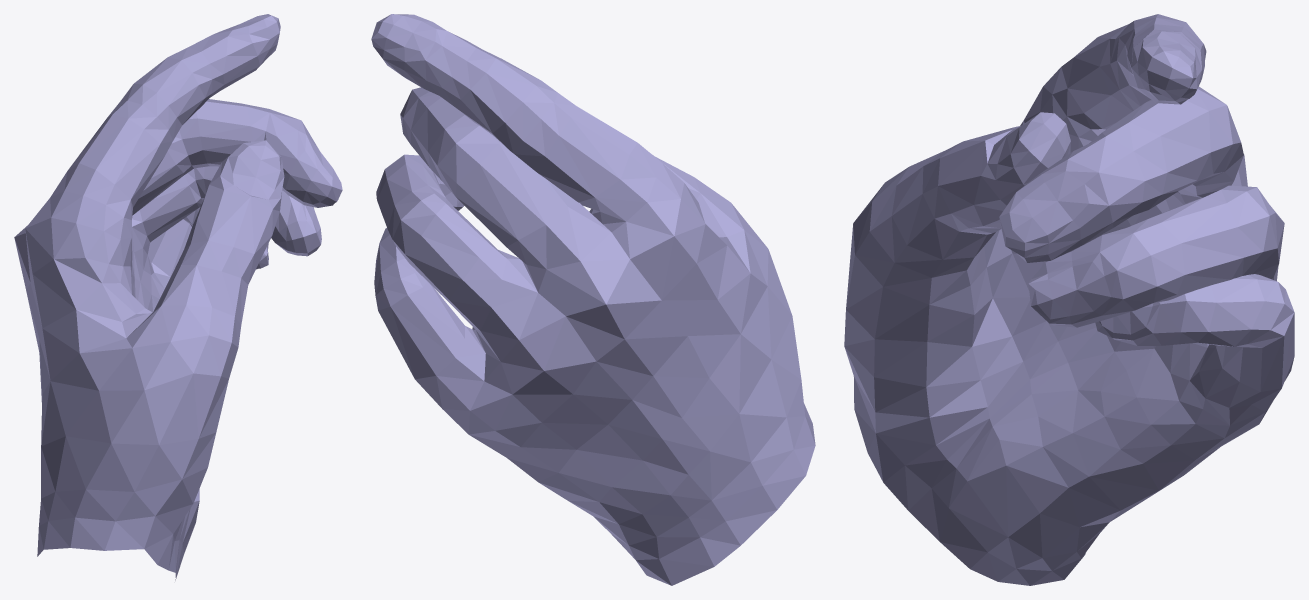
The model's file is frame_0048_source_000048_hand.glb.
The picture shows the model from 3 angles, left to right: view 1: azimuth 30°, elevation 25°; view 2: azimuth 150°, elevation 25°; view 3: azimuth 270°, elevation 25°; orthographic projection. The views are drawn at different scales.
Visible parts, largest first — view 1: world; view 2: world; view 3: world.
Boxes of the visible parts, x1=… form: world: x1=14, y1=14, x2=342, y2=580; world: x1=371, y1=14, x2=815, y2=585; world: x1=844, y1=14, x2=1294, y2=585.
Bounding box in the file's own units: 0.1007 × 0.1476 × 0.0919.
